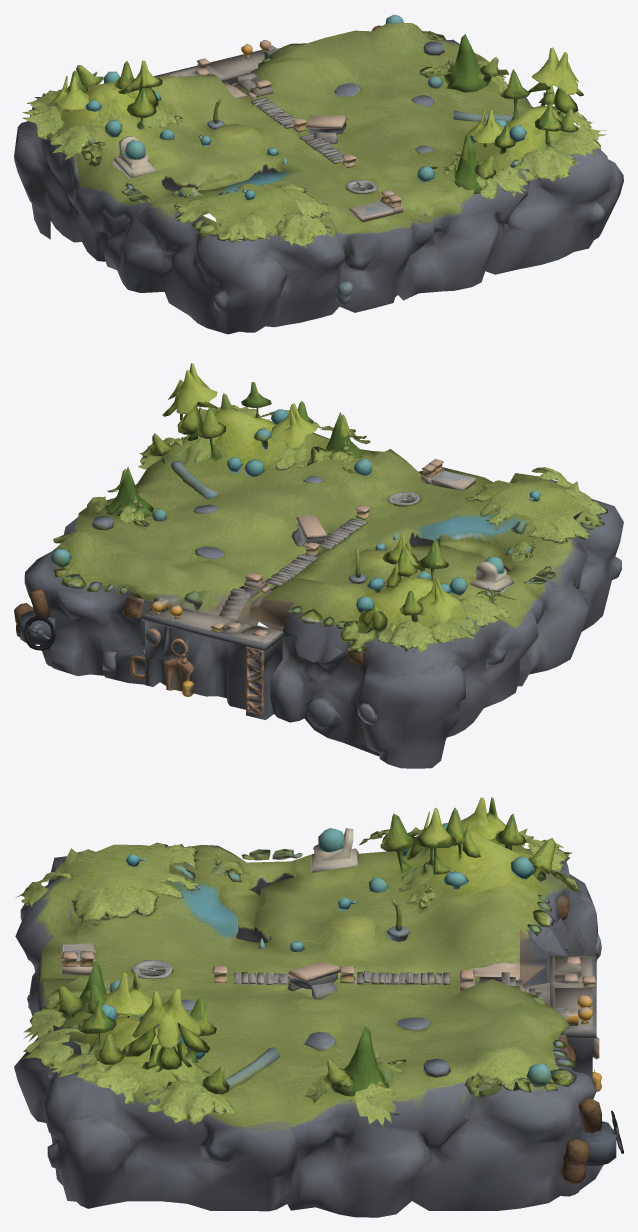
The model's file is VAL_Capital_Environment_Plateau_Academy.glb.
The picture shows the model from 3 angles, top to bottom: view 1: azimuth 30°, elevation 25°; view 2: azimuth 150°, elevation 25°; view 3: azimuth 270°, elevation 25°; orthographic projection. The views are drawn at different scales.
Visible parts, largest first — view 1: tripo_node_a09b0112-5d41-42dd-8f84-4ce81fedd7cf; view 2: tripo_node_a09b0112-5d41-42dd-8f84-4ce81fedd7cf; view 3: tripo_node_a09b0112-5d41-42dd-8f84-4ce81fedd7cf.
Boxes of the visible parts, x1,y1,x2,y2 form: tripo_node_a09b0112-5d41-42dd-8f84-4ce81fedd7cf: (14, 14, 623, 334); tripo_node_a09b0112-5d41-42dd-8f84-4ce81fedd7cf: (14, 363, 623, 768); tripo_node_a09b0112-5d41-42dd-8f84-4ce81fedd7cf: (14, 797, 623, 1217).
Bounding box in the file's own units: 0.998 × 0.416 × 0.916.
Materials: 1 (1 with a texture image).
